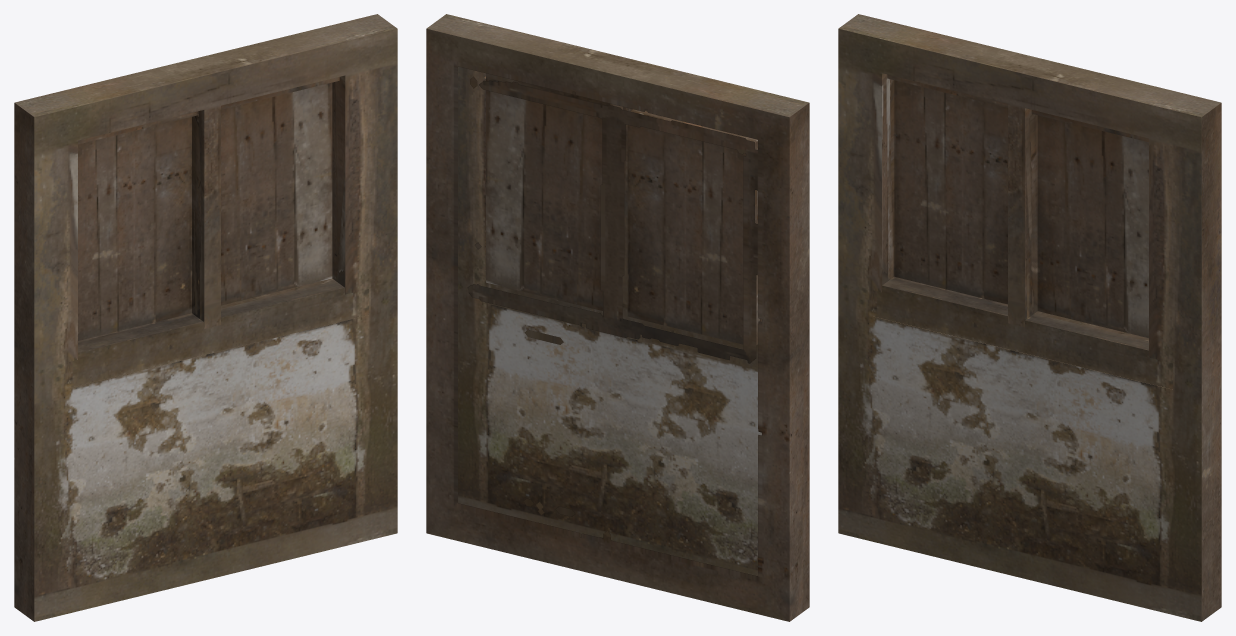
The model's file is OU_AR_Wooden_Door_02_D.fbx.
3 renders of one model, left to right at view 1: azimuth 30°, elevation 25°; view 2: azimuth 150°, elevation 25°; view 3: azimuth 330°, elevation 25°, orthographic.
Visible parts, largest first — view 1: OU_AR_Wooden_Door_02_D; view 2: OU_AR_Wooden_Door_02_D; view 3: OU_AR_Wooden_Door_02_D.
Part boxes in pixels (x1,y1,x2,y2): OU_AR_Wooden_Door_02_D: (14,14,397,621); OU_AR_Wooden_Door_02_D: (426,14,809,621); OU_AR_Wooden_Door_02_D: (838,14,1221,621).
Bounding box in the file's own units: 150 × 199 × 14.36.
1 material, 1 textured.
